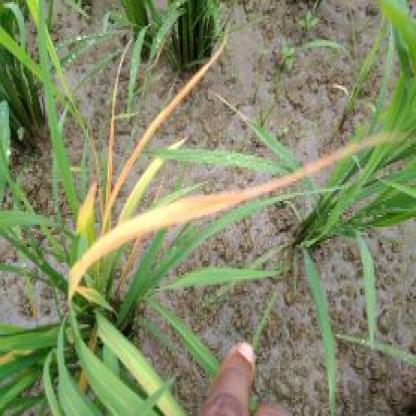Tungro: (70, 177, 321, 293)
